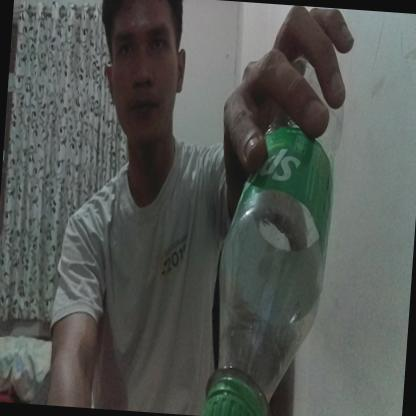plastic_bottles: (204, 54, 349, 416)
